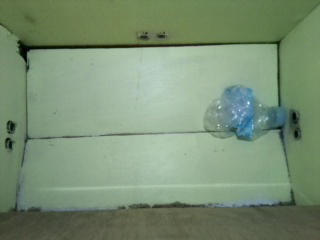damaged-bottle: (204, 84, 286, 141)
